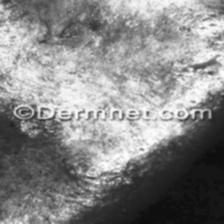Unclassified: (163, 10, 224, 66), (36, 8, 106, 48), (0, 121, 72, 153)
